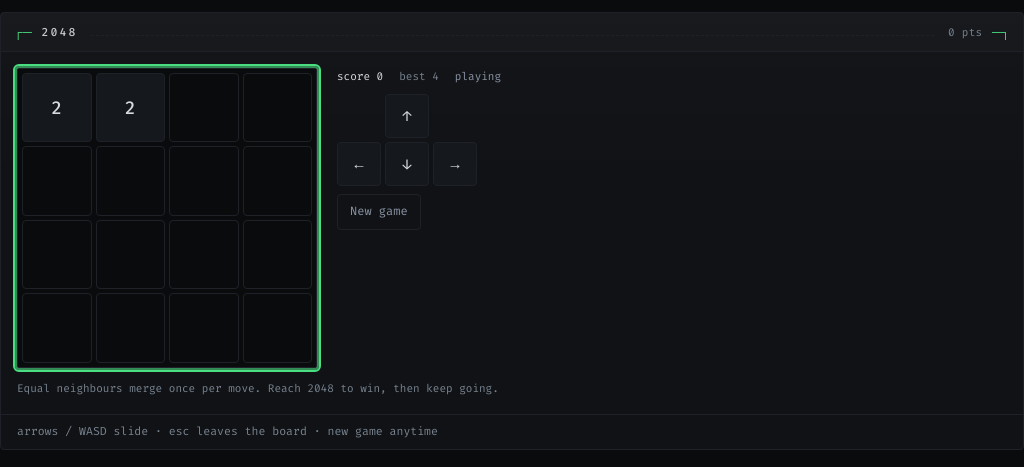
it: 2048 panel › resets score when starting a new game
This screenshot has width=1024, height=467.
Press ArrowRight in the element named "2048 board", box [17,68,317,368]
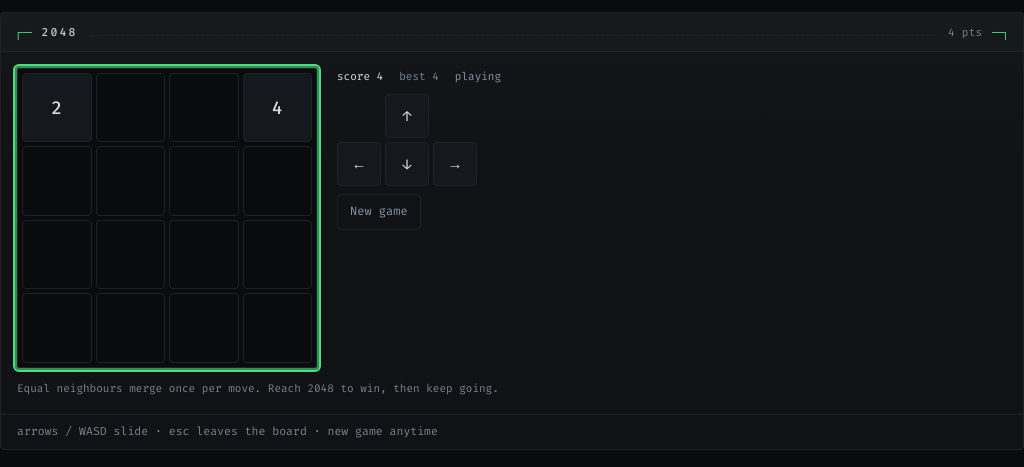
Now the text with test id "2048-score" reads "score 4", box [337,68,383,86]
Click the button "New game" at (379, 212), box [337,194,421,230]
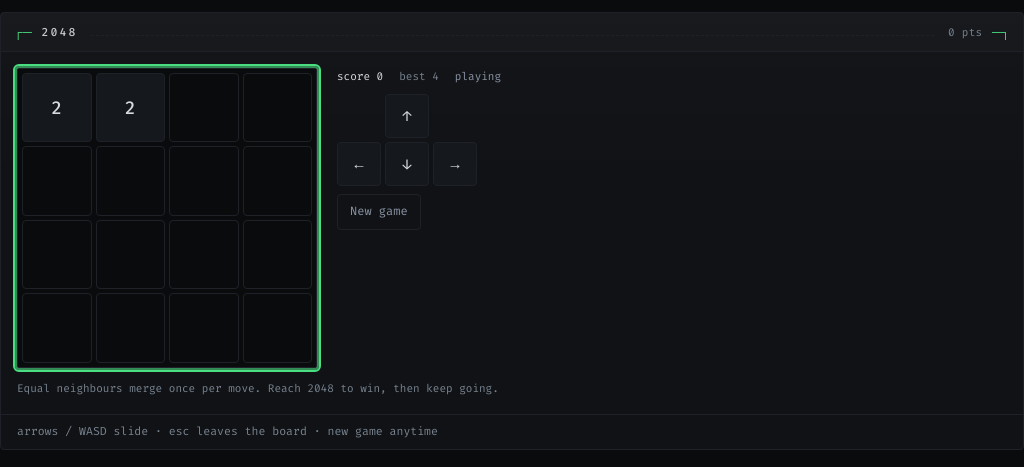
Expected: the text with test id "2048-status" reads "playing", [455,69,501,84]
Now the text with test id "2048-score" reads "score 0", box [337,68,383,86]
